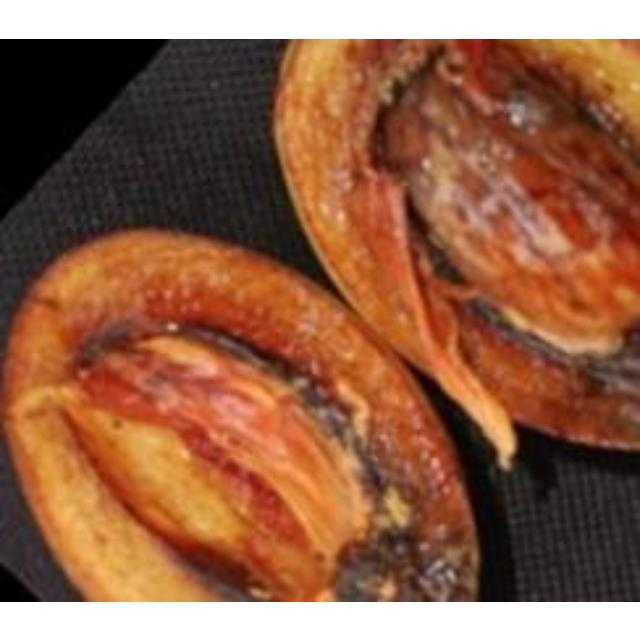damaged: (5, 229, 475, 599), (273, 38, 637, 447)
